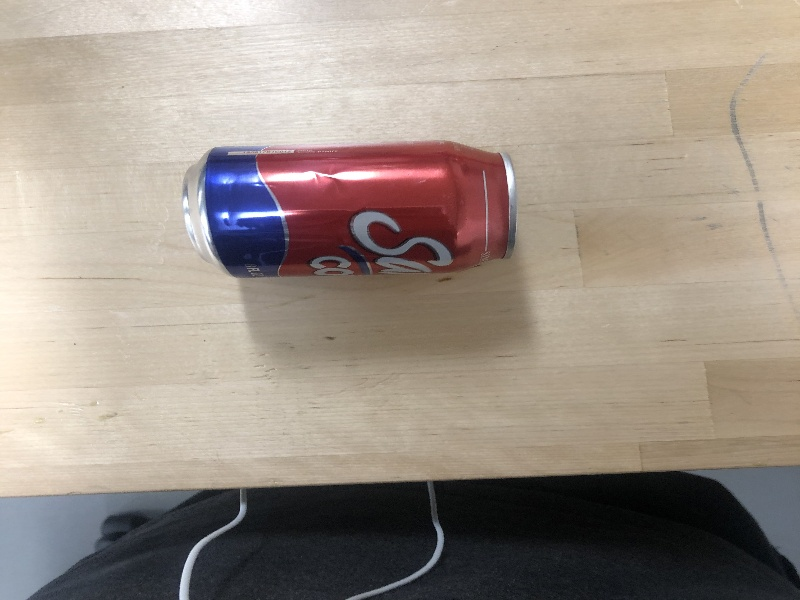metal: (180, 134, 526, 285)
